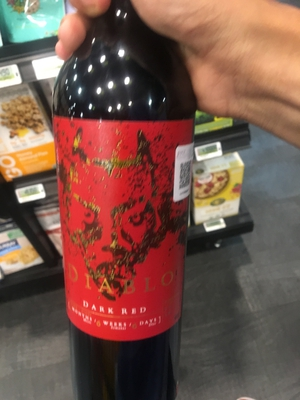diablo dark red: (36, 20, 202, 390)
